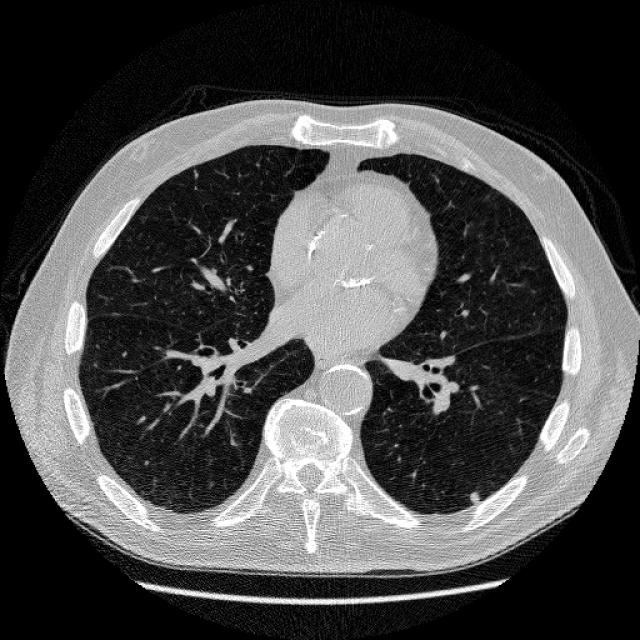nodule: (460, 484, 485, 508)
